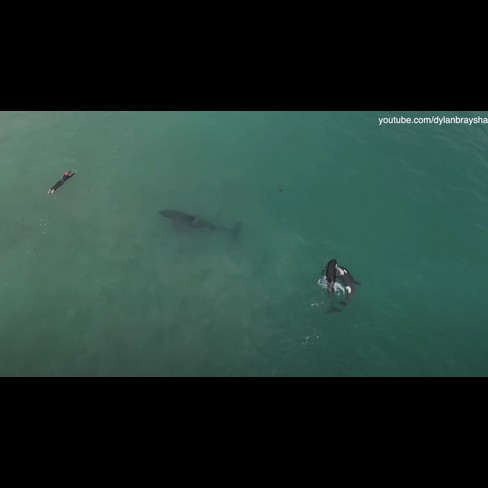orca: (149, 202, 249, 246), (309, 250, 342, 316), (339, 264, 360, 309)
